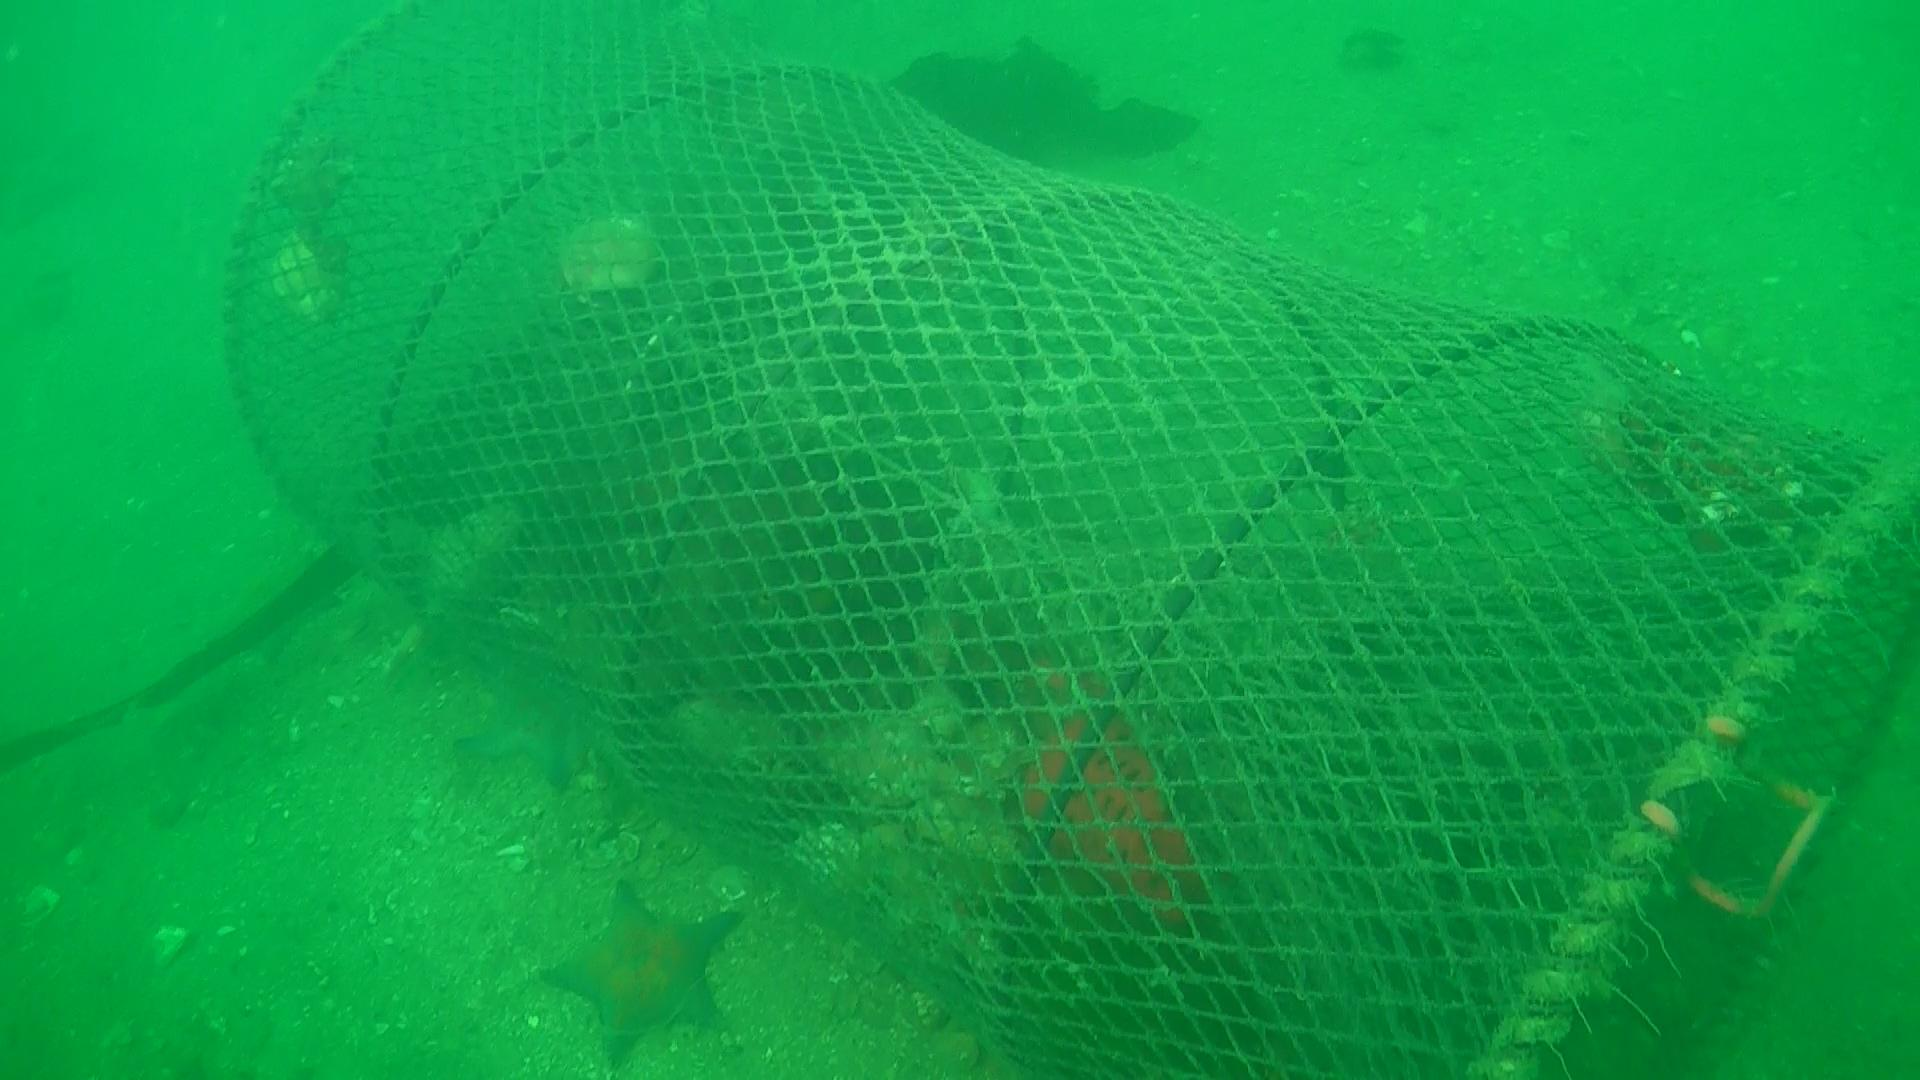spring fish trap: (215, 0, 1920, 1080)
